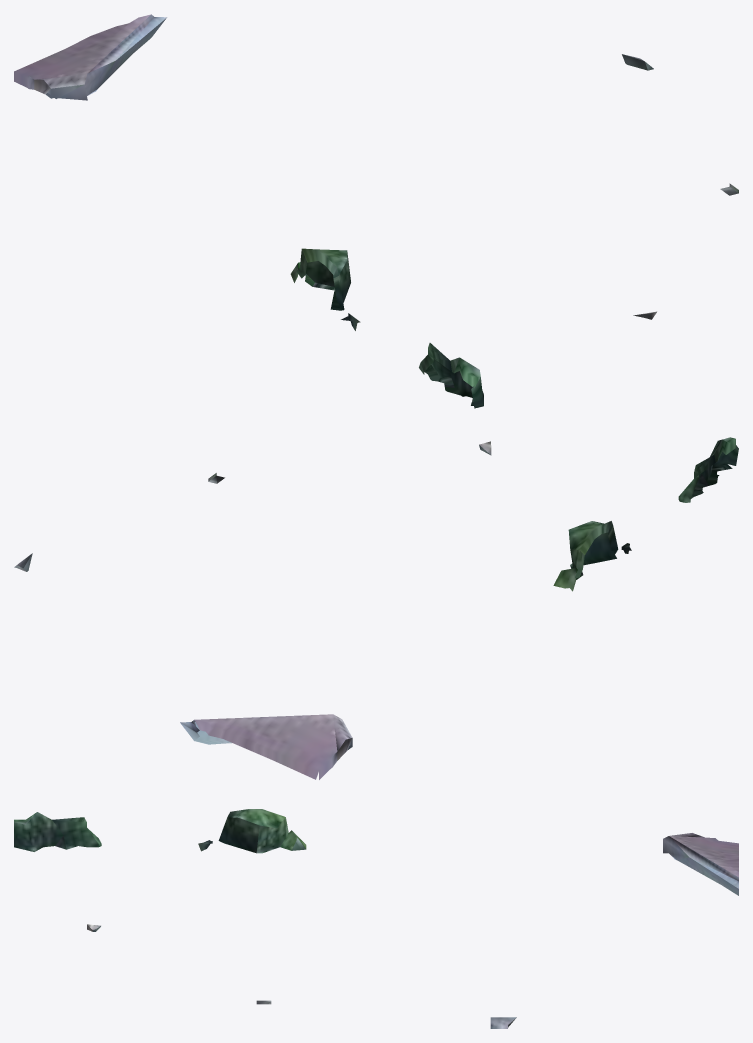
3 views of the same model, one above another, from view 1: azimuth 30°, elevation 25°; view 2: azimuth 150°, elevation 25°; view 3: azimuth 270°, elevation 25° (orthographic). The views are drawn at different scales.
Parts seen in each view (by area): view 1: 30436272704370627714_0; view 2: 30436272704370627714_0; view 3: 30436272704370627714_0.
Part boxes in pixels (x1,y1,x2,y2): 30436272704370627714_0: (14, 14, 738, 408); 30436272704370627714_0: (14, 437, 738, 779); 30436272704370627714_0: (14, 809, 738, 1028).
Size of the model in its own units: 23.62 by 2.47 by 38.26.
1 material, 1 textured.
